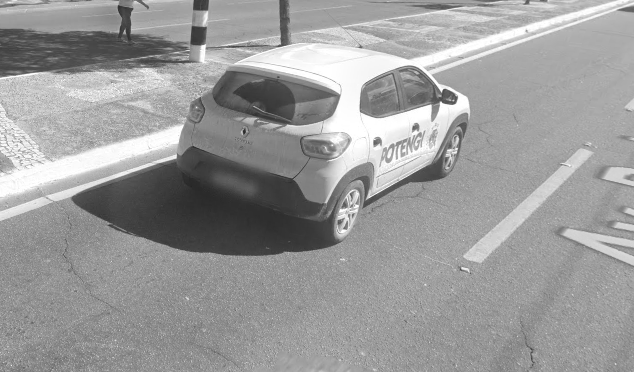car: (175, 8, 472, 245)
